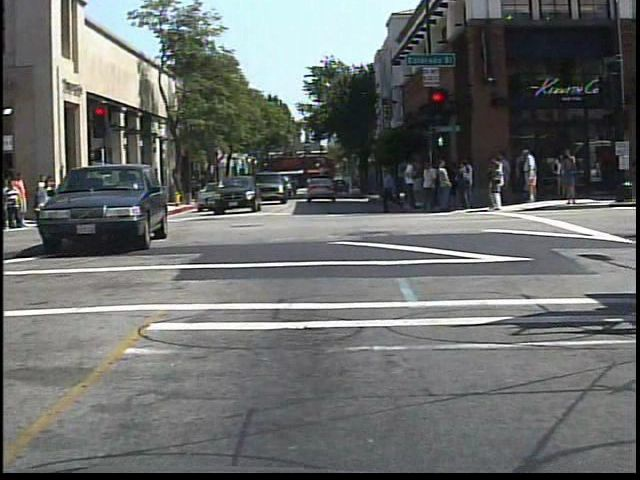person: (519, 147, 544, 206), (5, 178, 28, 232), (37, 174, 57, 211)
